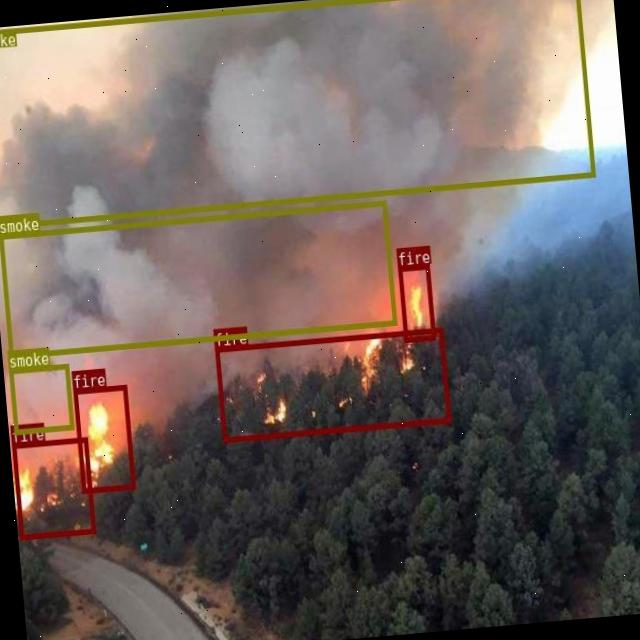fire: (214, 326, 449, 441), (10, 436, 94, 539), (72, 383, 134, 492), (396, 262, 436, 342)
smoke: (0, 0, 594, 229), (0, 200, 395, 358), (8, 362, 72, 433)
